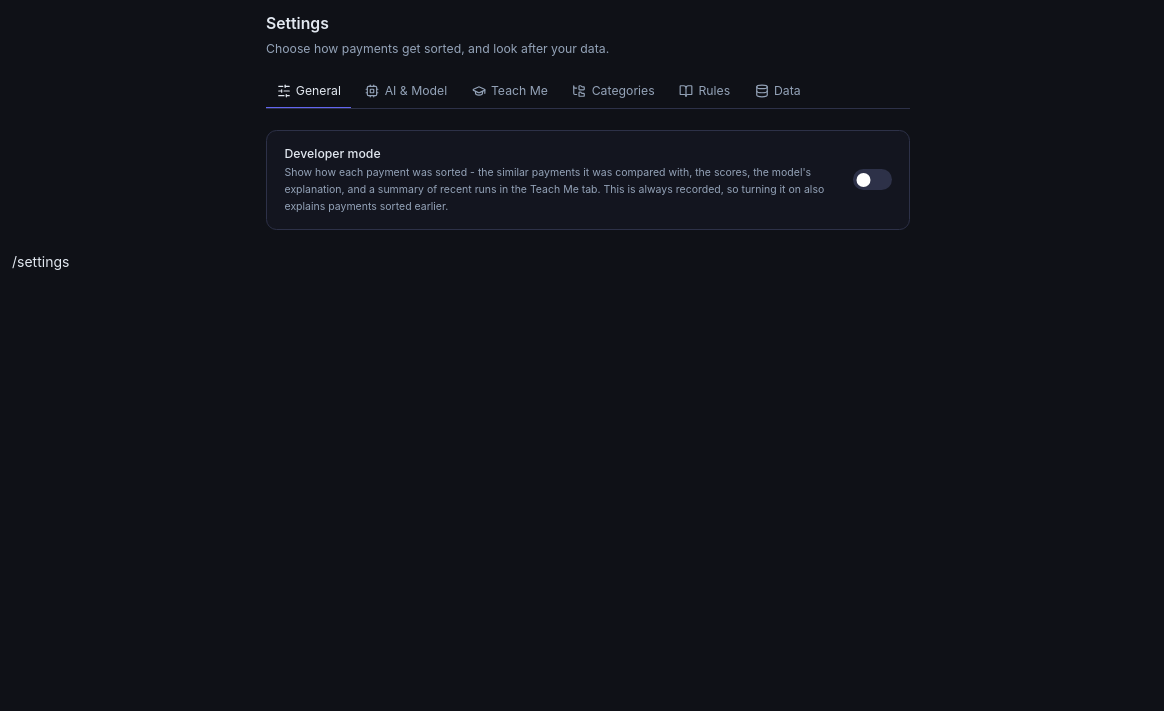
Test: Settings › labels learned rules by payee and marks money-in rules
The width and height of the screenshot is (1164, 711).
Check: the text "Developer mode" is shown, box [284,146,381,160]
Click the button "Rules": [705, 92] box [669,75,741,108]
(page scrolled)
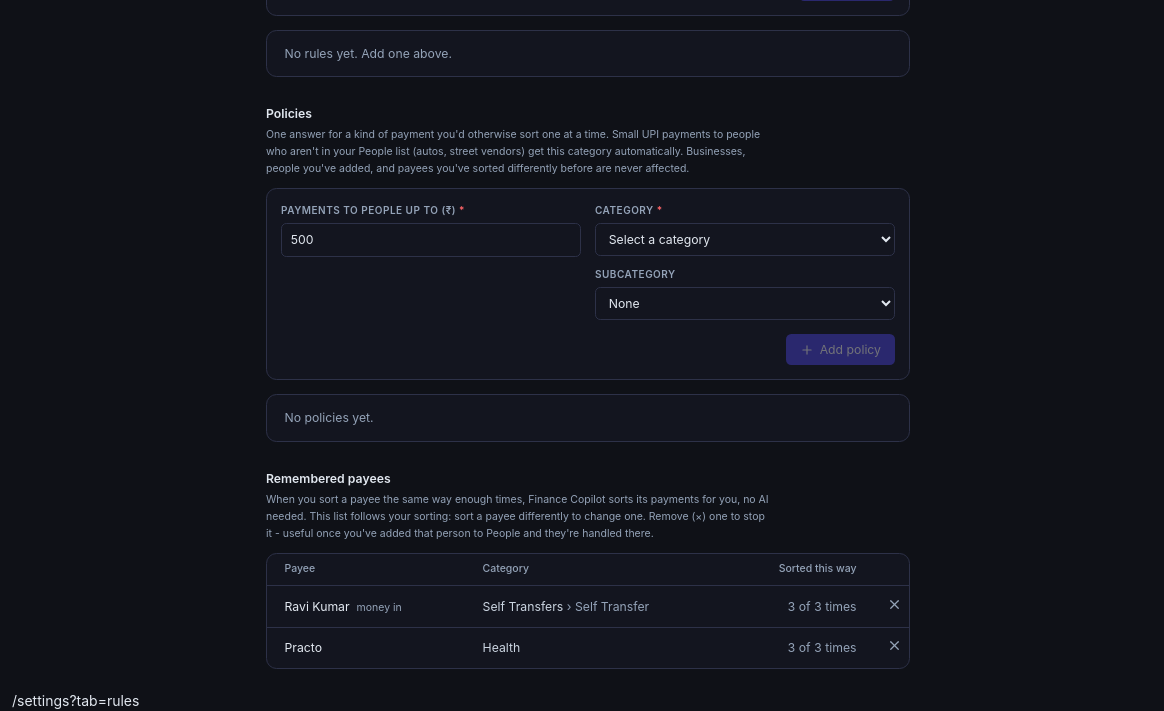
Check: the link "Ravi Kumar" is shown, box [284,598,350,614]
Check: the text "money in" is shown once, box [357,600,402,614]
Check: the heading "Remembered payees" is shown, box [266,471,391,486]
